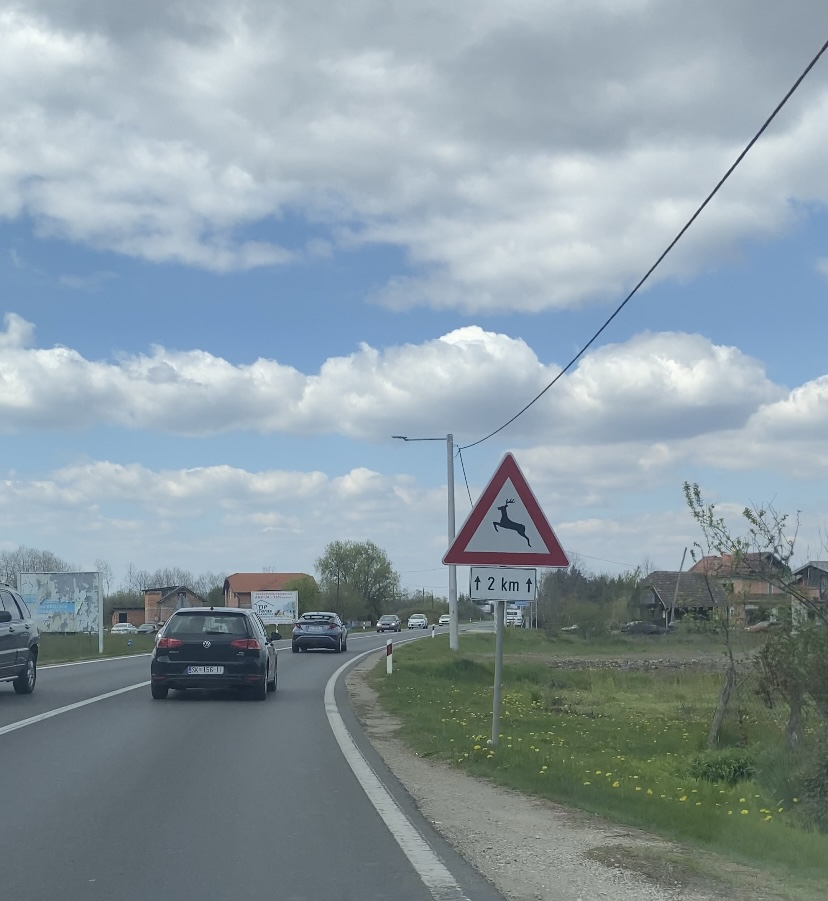Divljač na cesti: (442, 451, 570, 568)
